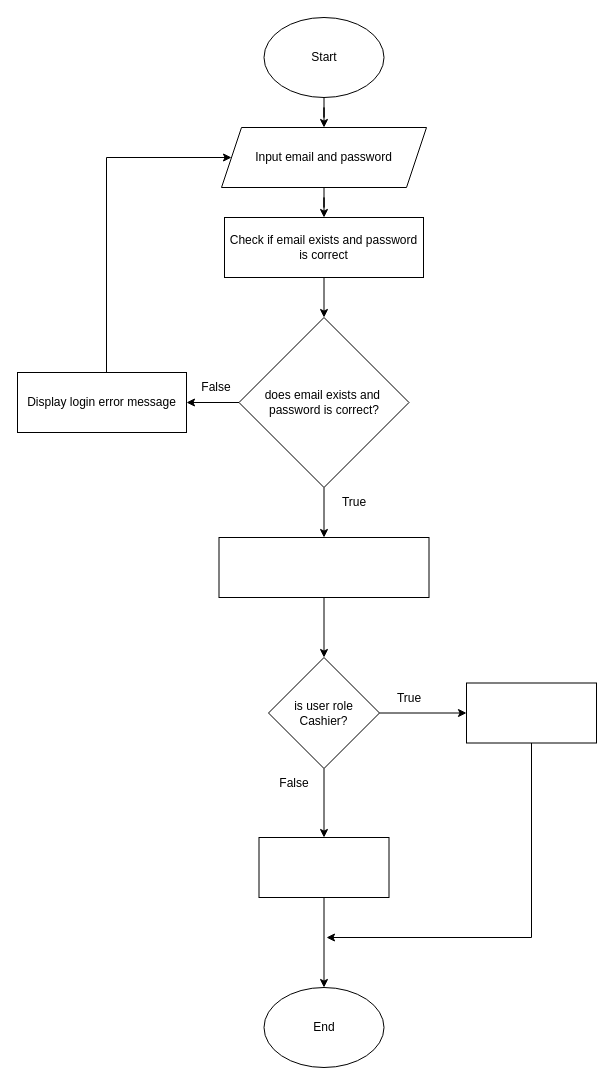
The diagram is 614 pixels wide and 1085 high, and some of its shapes have lost their labels. Here are the shapes that lost their labels. From the top down, the box of each, then its label:
(218, 536, 429, 598): Check role of user
(466, 682, 596, 743): Redirect to cashier dashboard
(258, 836, 389, 898): Redirect to registrar dashboard
